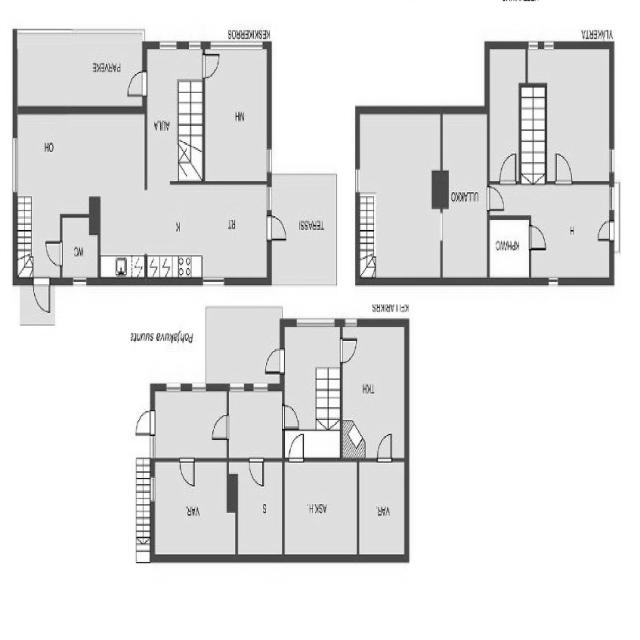door: (100, 190, 276, 278), (530, 42, 608, 185), (13, 25, 142, 109), (202, 44, 274, 190), (337, 315, 408, 459), (281, 322, 341, 460), (528, 190, 612, 288), (152, 461, 233, 562), (284, 454, 361, 558), (442, 114, 488, 281), (229, 458, 284, 560), (489, 44, 526, 188), (154, 389, 232, 456), (361, 459, 407, 563), (228, 383, 286, 457), (62, 215, 100, 280)
window: (291, 306, 338, 331), (206, 33, 264, 52), (226, 379, 268, 402), (9, 135, 23, 197), (166, 374, 205, 396), (152, 38, 204, 52), (524, 37, 559, 57), (605, 147, 615, 211), (199, 271, 228, 288), (341, 312, 362, 334), (352, 164, 363, 200), (68, 273, 88, 292), (544, 272, 562, 292), (146, 466, 156, 500), (264, 148, 274, 176), (144, 436, 156, 456)
zone: (173, 453, 200, 490), (40, 236, 67, 272), (201, 52, 230, 84), (552, 149, 574, 190), (266, 208, 290, 244), (497, 145, 518, 184), (248, 453, 267, 496), (208, 411, 230, 448), (127, 70, 153, 99), (262, 345, 288, 374), (374, 432, 394, 468), (30, 278, 50, 312), (133, 414, 160, 438), (276, 406, 300, 432), (488, 182, 506, 216), (338, 331, 357, 362), (595, 216, 613, 248), (288, 430, 307, 460), (528, 221, 544, 247)
